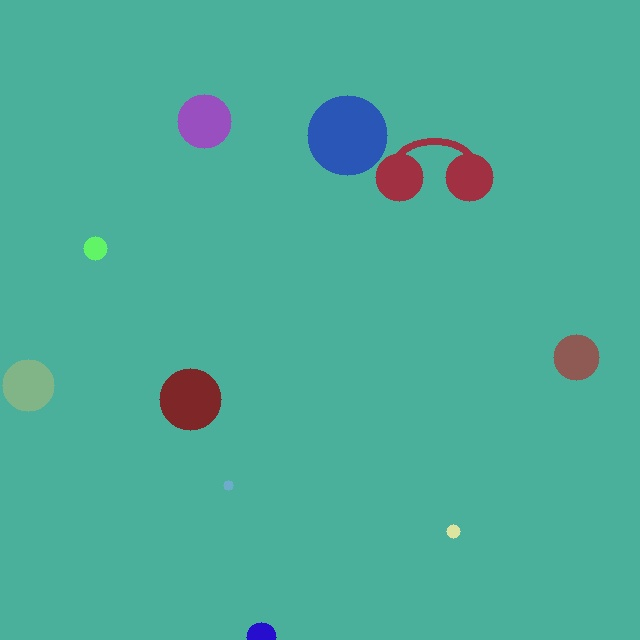over_ear: (371, 128, 497, 205)
